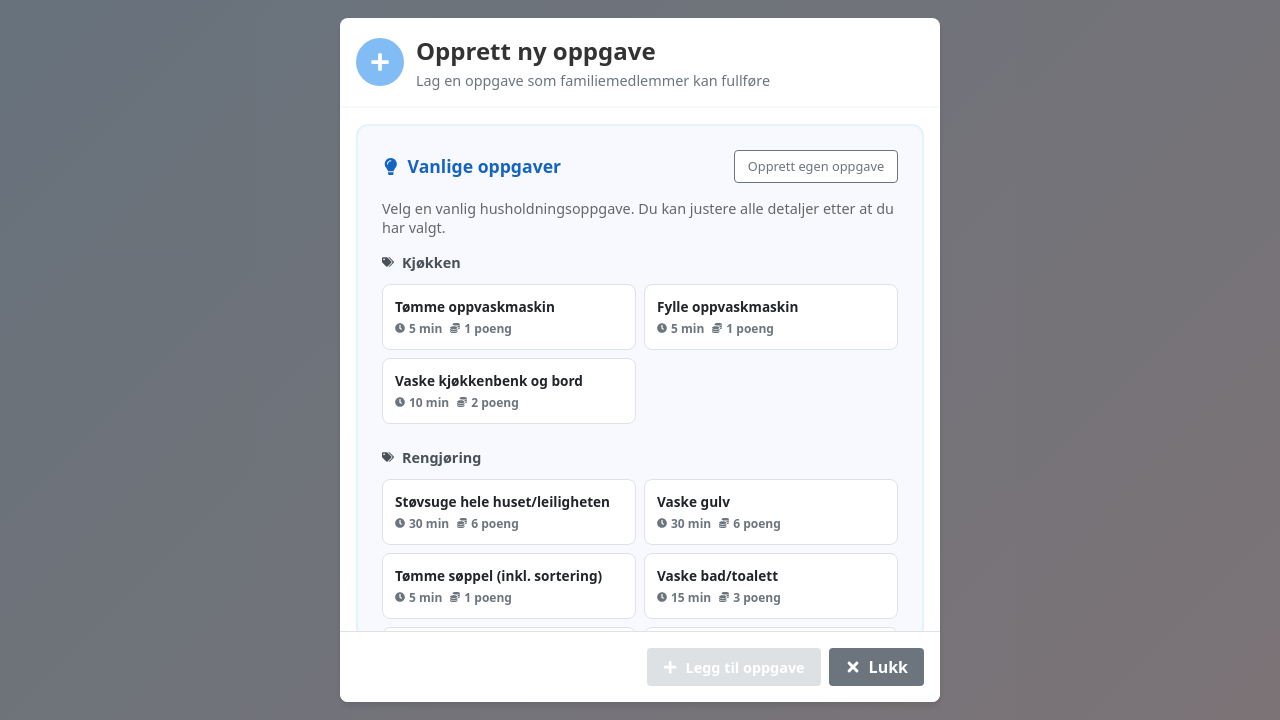
Scenario: CreateTaskForm Quick Start › should prefill form when clicking on a quick start task
// Click on a specific task
Click the button "Tømme oppvaskmaskin 5 min 1 poeng": [509, 317] box [382,284,636,350]
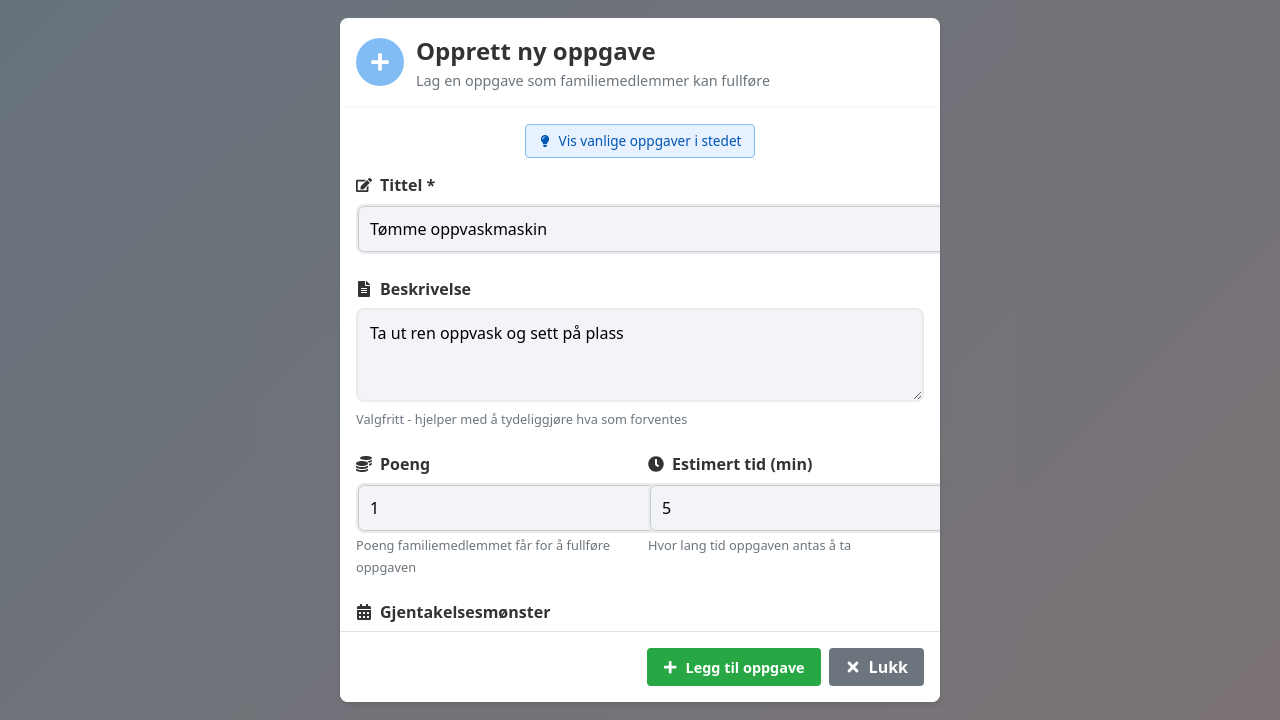
Now the field showing "Tømme oppvaskmaskin" is shown, box [356,204,940,254]
Now the text box showing "Ta ut ren oppvask og sett på plass" is shown, box [356,308,924,402]
Now the number field showing "5" below "Estimert tid (min)" is shown, box [648,483,940,533]
